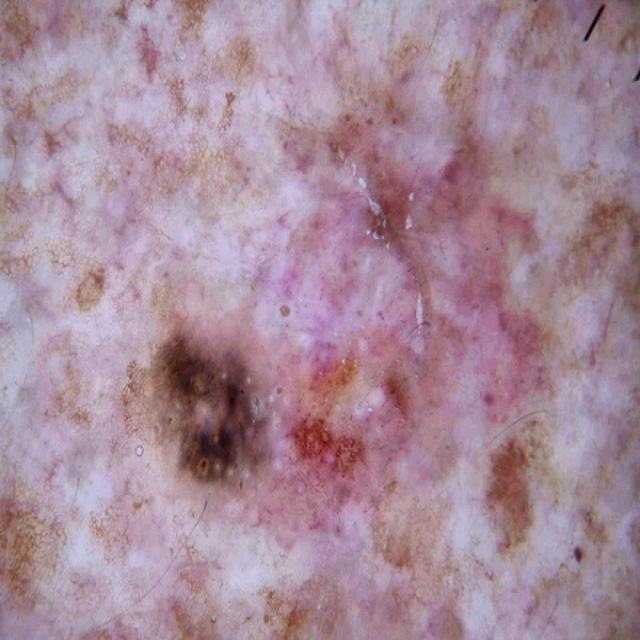Benign-Keratosis-like-Lesions-BKL-: (32, 41, 603, 597)
